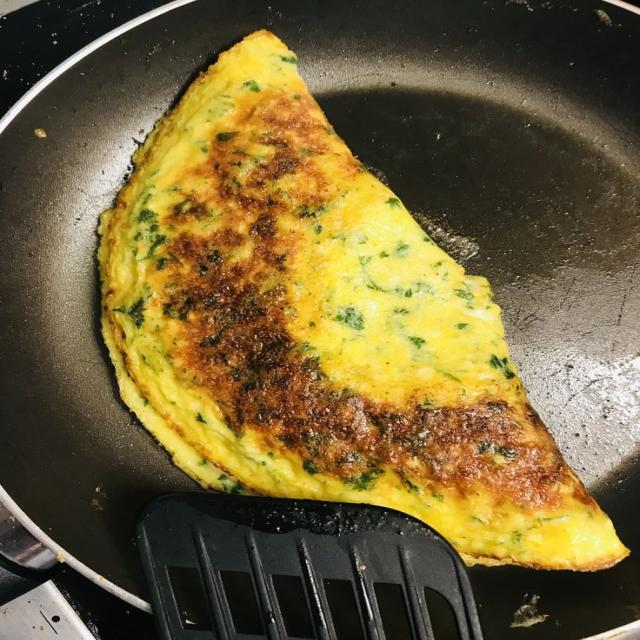omelette: (100, 32, 627, 570)
